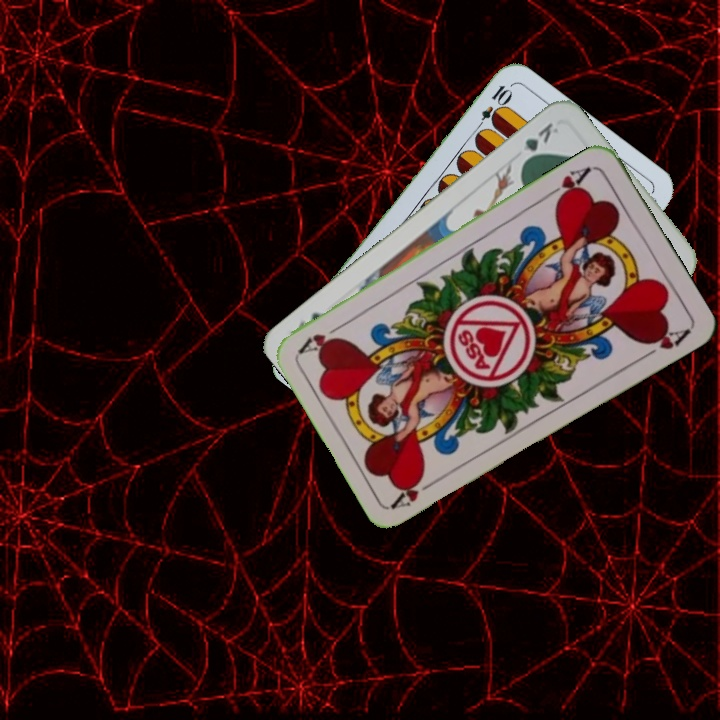E10: (471, 81, 514, 135)
GK: (517, 118, 561, 167)
HA: (542, 162, 594, 207), (389, 471, 443, 511)
